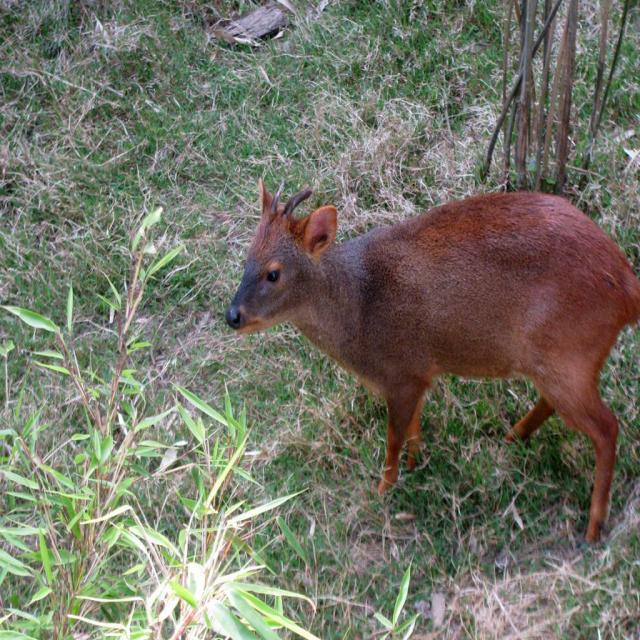Deer: (226, 182, 640, 548)
